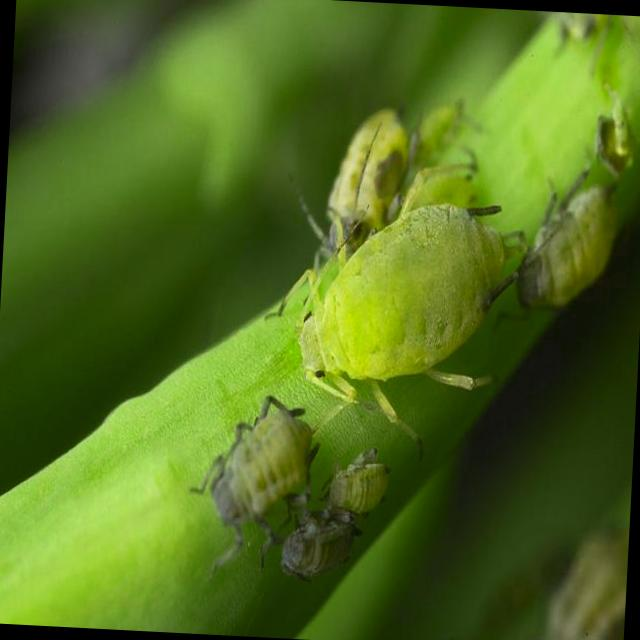aphid: (237, 178, 534, 454), (174, 352, 342, 560)
